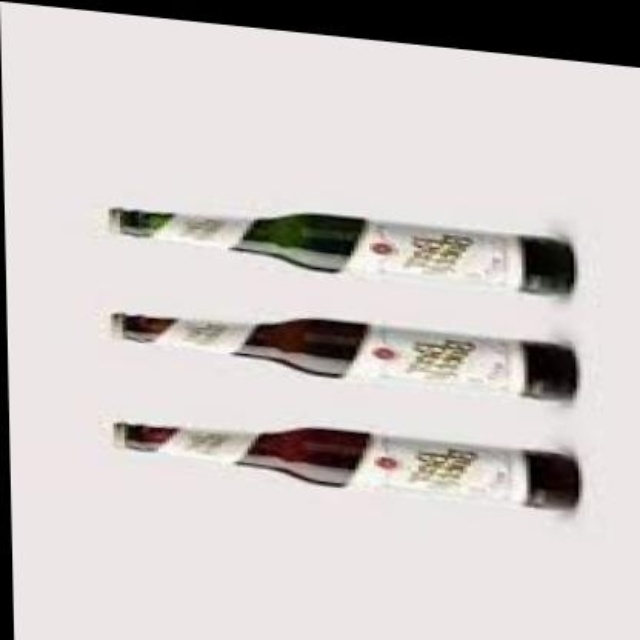trash: (111, 312, 577, 398), (114, 422, 578, 508), (109, 208, 574, 292)
